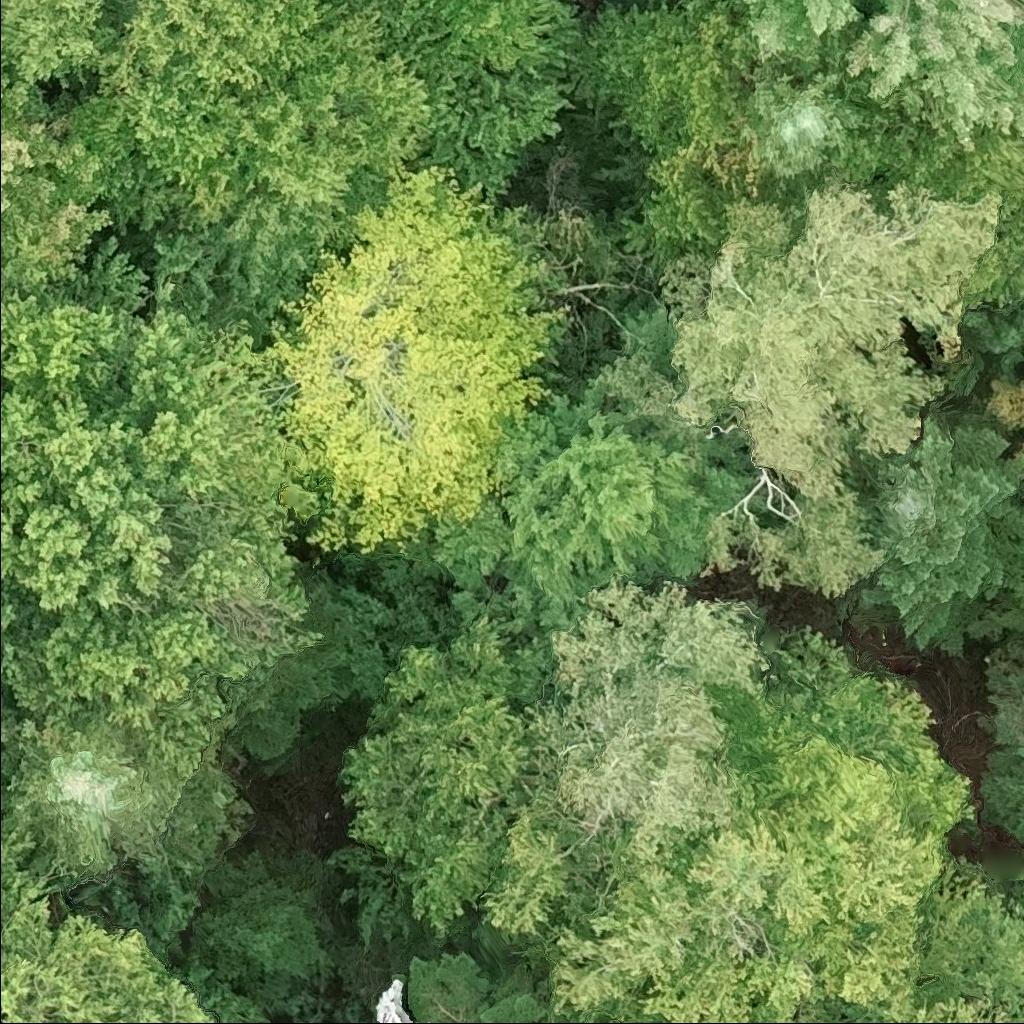crown: (339, 610, 974, 1023), (0, 228, 326, 771), (596, 170, 1003, 599), (255, 153, 571, 556), (69, 0, 441, 330), (398, 376, 760, 598), (523, 572, 769, 875), (566, 0, 755, 275), (0, 699, 251, 885), (847, 396, 1023, 654), (0, 819, 215, 1023), (739, 0, 1023, 148), (380, 0, 583, 203), (0, 72, 121, 293), (186, 848, 340, 1008), (740, 63, 880, 219), (918, 859, 1023, 1007), (0, 0, 132, 88), (411, 951, 557, 1023), (878, 990, 1023, 1023), (983, 372, 1023, 452), (375, 976, 424, 1023), (1021, 312, 1023, 321), (1022, 490, 1023, 493)
